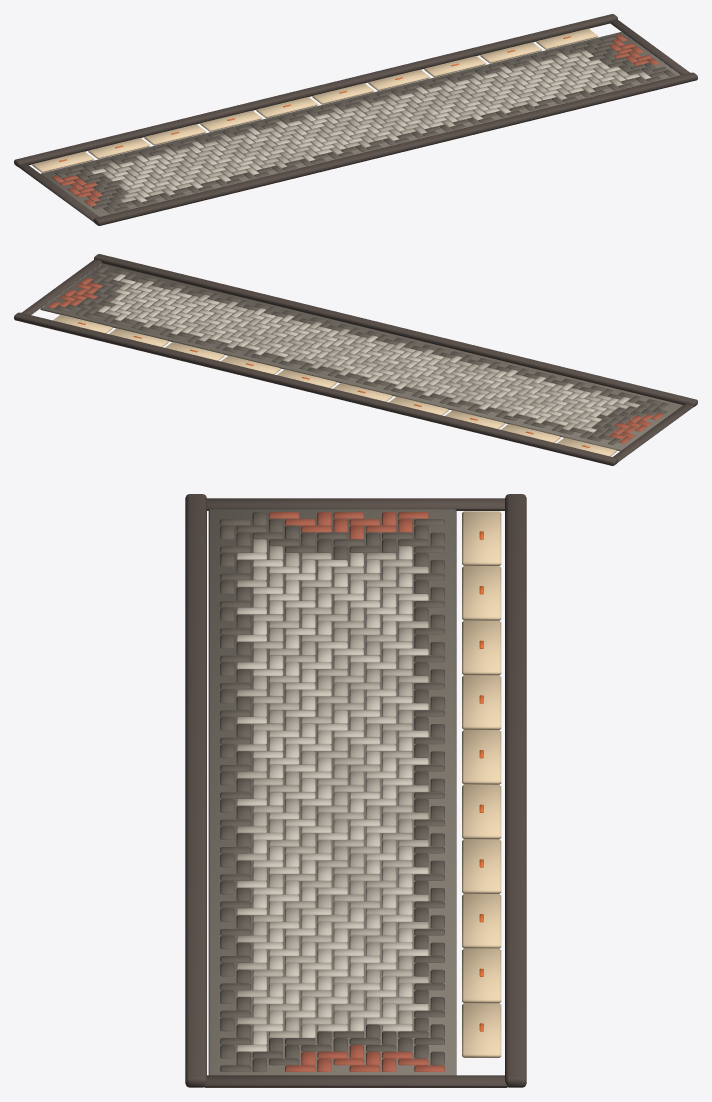
The model's file is street-paved.glb.
3 views of the same model, one above another, from view 1: azimuth 30°, elevation 25°; view 2: azimuth 150°, elevation 25°; view 3: azimuth 270°, elevation 25° (orthographic). The views are drawn at different scales.
Parts seen in each view (by area): view 1: Cube.551, Cube, Cube.018, Cube.015, Cube.001, Cube.555, Cube.003; view 2: Cube, Cube.551, Cube.018, Cube.015, Cube.001, Cube.555, Cube.003; view 3: Cube.018, Cube, Cube.015, Cube.551, Cube.001, Cube.555, Cube.003.
Boxes of the visible parts, box(x1,y1,x2,y2) form: Cube.551: box(14, 14, 697, 225); Cube: box(41, 32, 680, 216); Cube.018: box(91, 50, 650, 201); Cube.015: box(102, 52, 628, 202); Cube.001: box(55, 36, 675, 213); Cube.555: box(32, 28, 597, 172); Cube.003: box(51, 34, 659, 206); Cube: box(40, 263, 682, 451); Cube.551: box(14, 254, 697, 465); Cube.018: box(97, 274, 629, 432); Cube.015: box(105, 280, 639, 429); Cube.001: box(54, 266, 668, 444); Cube.555: box(53, 314, 616, 456); Cube.003: box(48, 277, 663, 443); Cube.018: box(236, 546, 428, 1051); Cube: box(208, 509, 456, 1075); Cube.015: box(236, 539, 428, 1037); Cube.551: box(185, 494, 526, 1087); Cube.001: box(220, 512, 444, 1071); Cube.555: box(462, 511, 501, 1057); Cube.003: box(269, 512, 444, 1071).
Size of the model in its own units: 3.86 by 0.0339 by 0.95.
